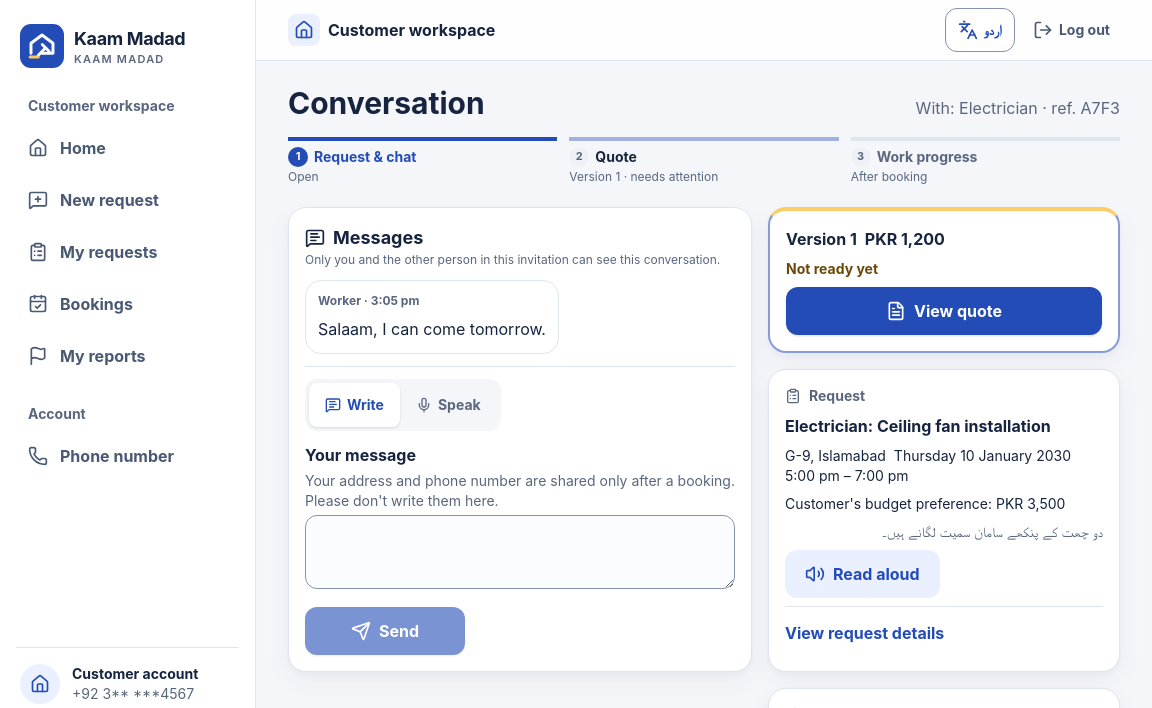
Scenario: job stages: request & chat → quote → work progress › customer: View quote opens the quote screen (no chat thread there) without reloading the invitation; Back returns to chat with the unsent message
Later steps or results of the test are not shown.
Expected: the text "Salaam, I can come tomorrow." is shown, [318, 317, 546, 341]
In the text box labelled "Your message": (520, 552) [305, 515, 735, 589], type "Is the ladder included?"
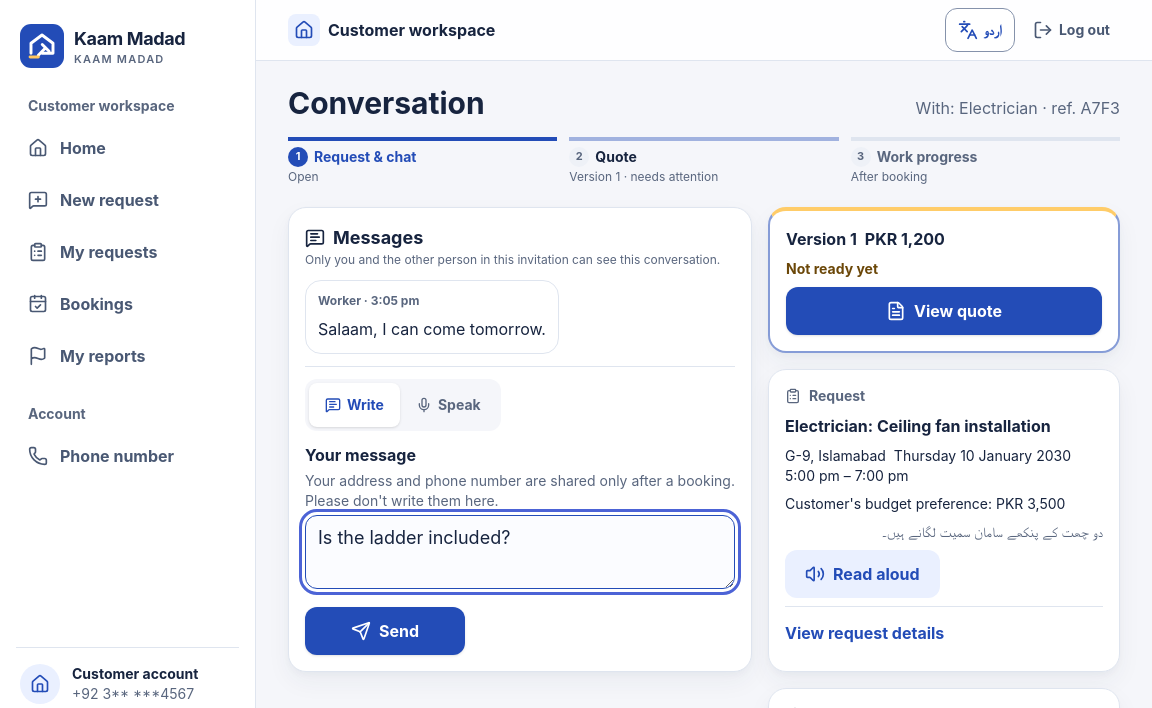
Expected: the text "Not ready yet" is shown, [786, 260, 878, 277]
Click the link "View quote": (944, 311) [786, 287, 1102, 335]
(page scrolled)
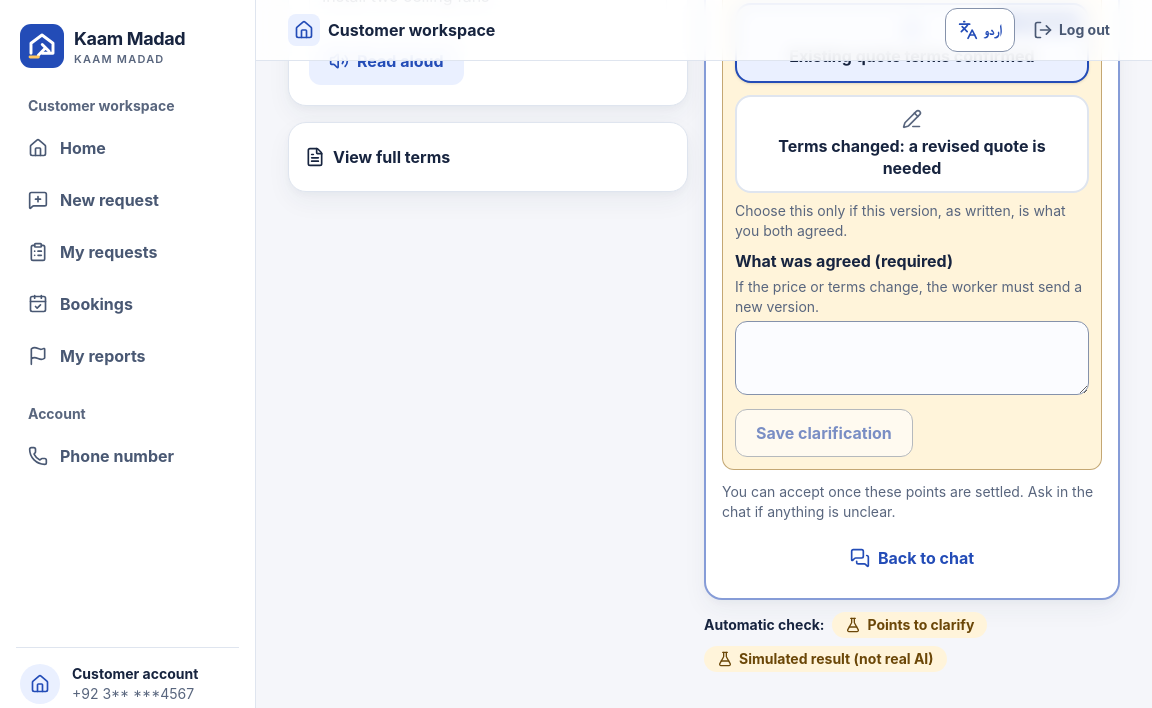
Expected: the heading "Messages" is gone
Expected: the label labelled "Your message" is gone
